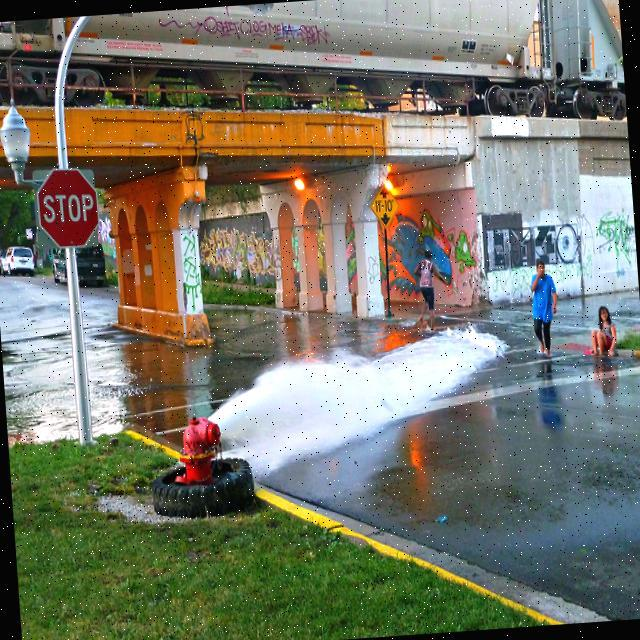fire_hydrant: (171, 410, 225, 487)
